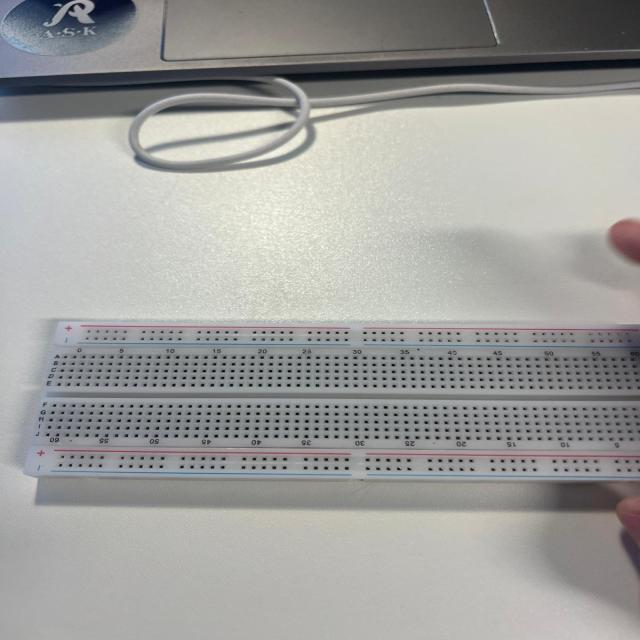BreadBoard: (48, 316, 639, 500)
